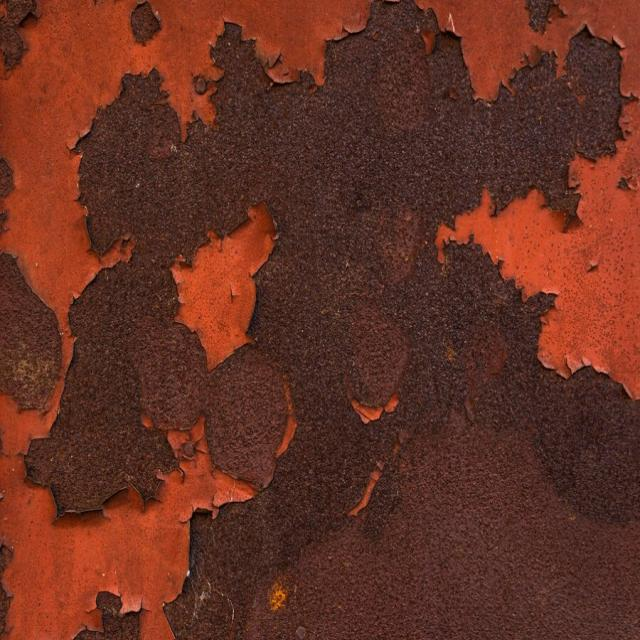Uniform Corrosion: (23, 2, 639, 639), (246, 419, 639, 639), (0, 252, 61, 408), (97, 593, 139, 639), (130, 2, 161, 43), (0, 546, 11, 638), (528, 0, 553, 31), (0, 157, 13, 198)
